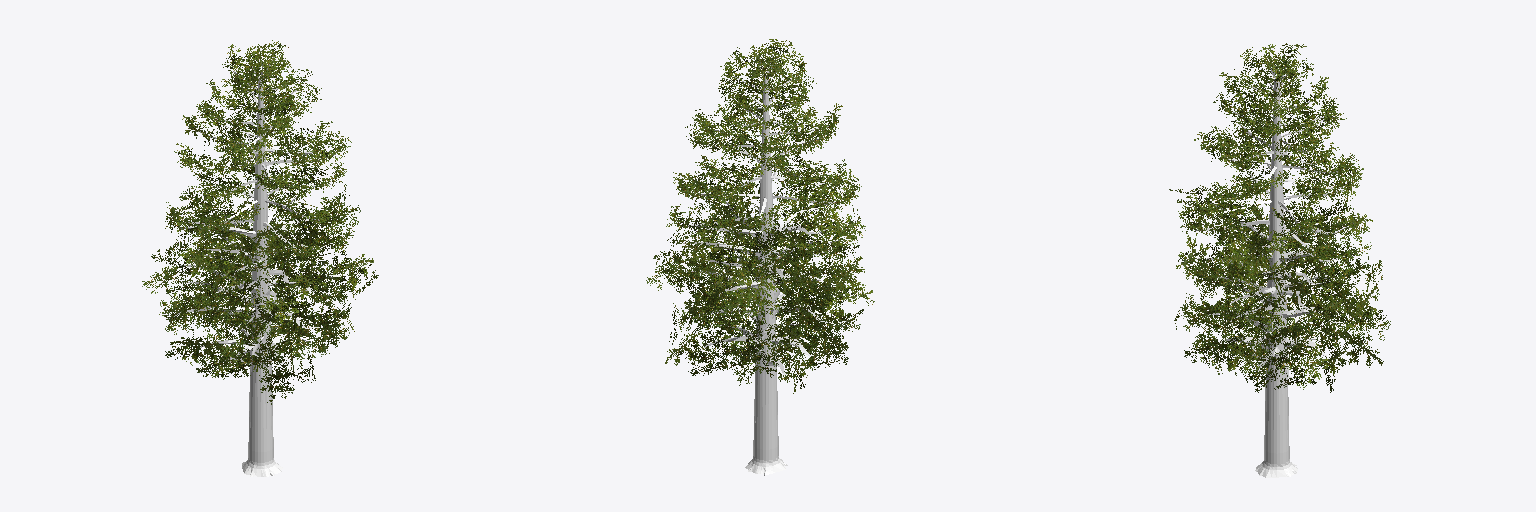
The picture shows the model from 3 angles: view 1: azimuth 30°, elevation 25°; view 2: azimuth 150°, elevation 25°; view 3: azimuth 270°, elevation 25°; orthographic projection.
Parts seen in each view (by area): view 1: Foliage__leafcard, Bark; view 2: Foliage__leafcard, Bark; view 3: Foliage__leafcard, Bark.
Part boxes in pixels (left/top/right/bottom): Foliage__leafcard: left=142, top=40, right=378, bottom=404; Bark: left=169, top=57, right=354, bottom=476; Foliage__leafcard: left=646, top=39, right=874, bottom=393; Bark: left=683, top=54, right=846, bottom=475; Foliage__leafcard: left=1169, top=43, right=1390, bottom=392; Bark: left=1195, top=58, right=1360, bottom=477.
Bounding box in the file's own units: 32.21 × 65 × 33.03.
2 materials, 1 textured.